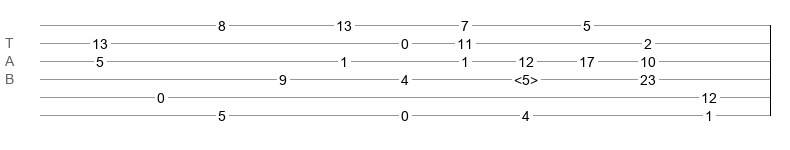0: (157, 90, 165, 100), (401, 108, 409, 118), (401, 36, 409, 46)
1: (340, 54, 348, 64), (461, 54, 469, 64), (705, 108, 713, 118)
10: (640, 54, 656, 64)
11: (457, 36, 473, 46)
12: (518, 54, 534, 64), (701, 90, 717, 100)
13: (92, 36, 108, 46), (336, 18, 352, 28)
17: (579, 54, 595, 64)
2: (644, 36, 652, 46)
23: (640, 72, 656, 82)
4: (401, 72, 409, 82), (522, 108, 530, 118)
5: (96, 54, 104, 64), (218, 108, 226, 118), (583, 18, 591, 28)
7: (461, 18, 469, 28)
8: (218, 18, 226, 28)
9: (279, 72, 287, 82)
harmonic: (514, 72, 538, 82)
